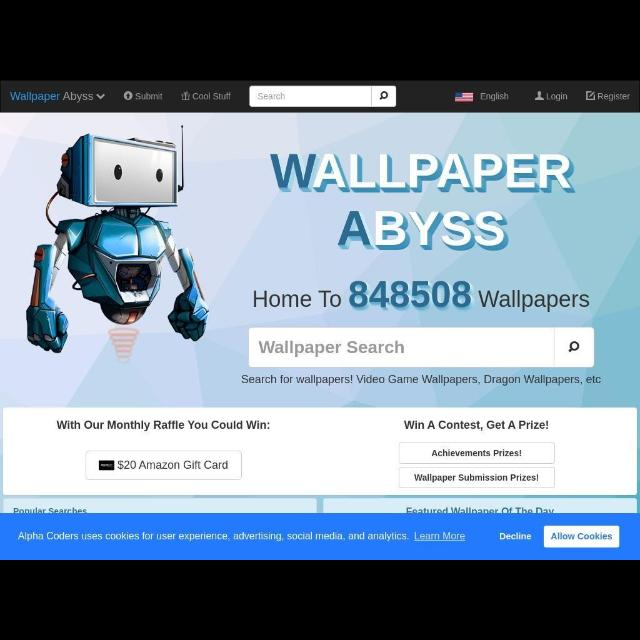backgroundimage: (3, 114, 639, 410)
button: (558, 328, 594, 368), (372, 88, 396, 108), (257, 93, 285, 101)
icon: (97, 459, 115, 471), (121, 90, 132, 102), (568, 341, 578, 354), (586, 90, 596, 102), (535, 91, 545, 102), (378, 91, 388, 101), (182, 92, 190, 102), (94, 94, 106, 100)
iframe: (4, 512, 638, 558), (1, 513, 636, 557)
image: (98, 458, 114, 472), (457, 92, 473, 101)
input: (250, 328, 596, 368), (249, 327, 556, 367), (250, 86, 372, 108)
link: (416, 532, 466, 542)
spinner: (8, 90, 108, 104)
text: (268, 150, 576, 194), (250, 280, 592, 310), (338, 210, 508, 250), (18, 530, 408, 542), (240, 374, 602, 384), (56, 418, 270, 432), (258, 339, 404, 356), (404, 418, 548, 432), (117, 459, 230, 473), (414, 472, 540, 484), (404, 506, 556, 514), (8, 91, 94, 103), (433, 449, 523, 458), (552, 530, 614, 542), (12, 506, 88, 512), (192, 92, 230, 101), (498, 532, 532, 542), (599, 92, 631, 101), (258, 92, 286, 102), (480, 92, 510, 101), (136, 93, 164, 101), (548, 92, 568, 101)
textbutton: (85, 449, 241, 479), (399, 467, 555, 489), (401, 442, 555, 464), (544, 524, 620, 546)
